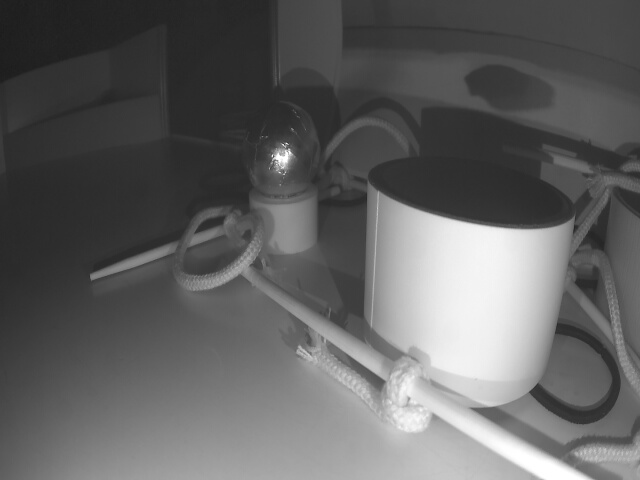Live: (246, 110, 320, 188)
Point: (4, 103, 165, 159)
